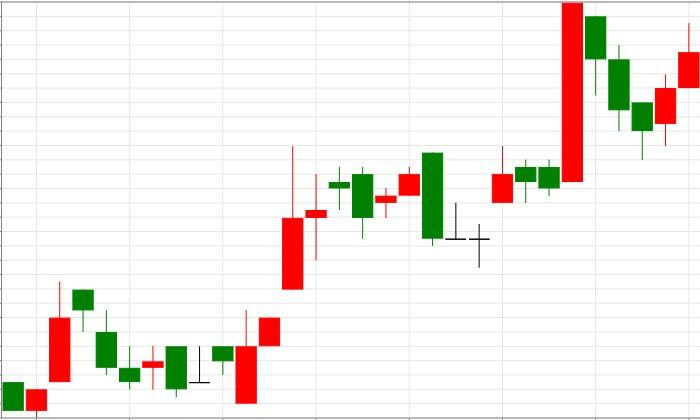bearish_engulfing_fall: (235, 145, 443, 404)
three_black_crows_fall: (468, 2, 654, 268), (2, 282, 142, 417)
